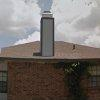Chimney: (33, 3, 65, 67)
